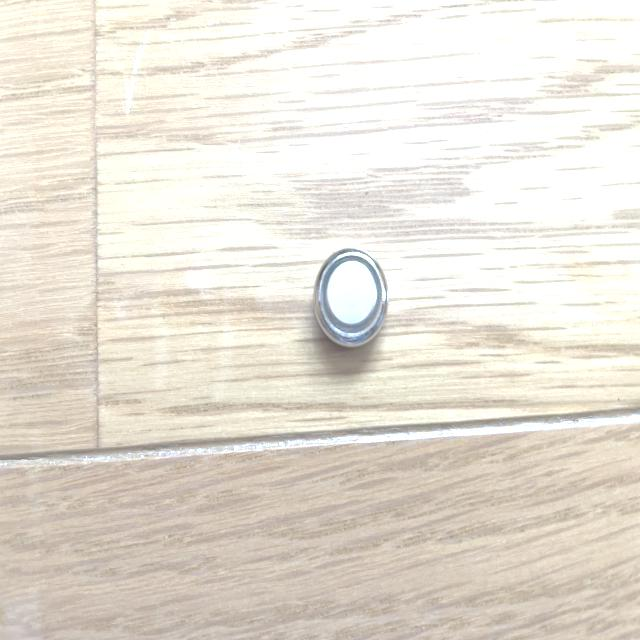COIN: (312, 244, 391, 350)
